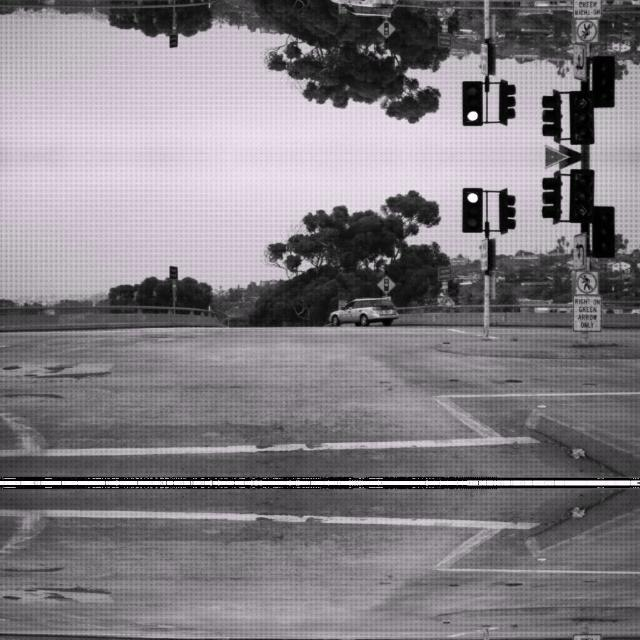signalAhead: (376, 273, 396, 293), (376, 19, 396, 39)
